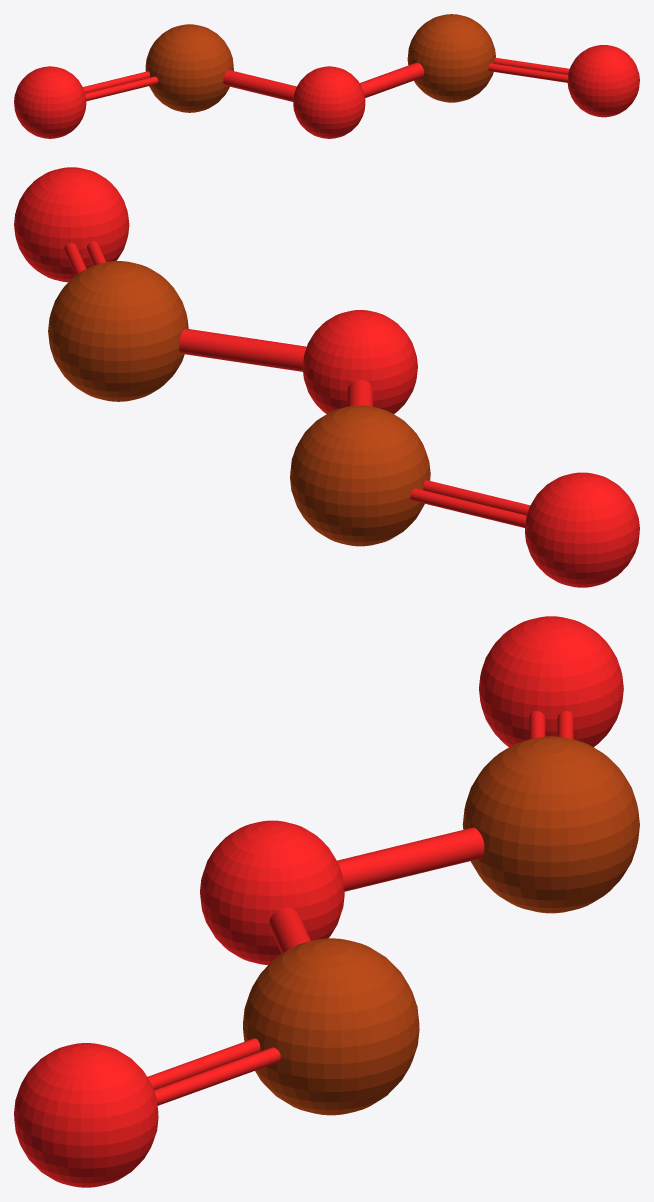
Rendered from iron_oxide.fbx.
The picture shows the model from 3 angles, top to bottom: view 1: azimuth 30°, elevation 25°; view 2: azimuth 150°, elevation 25°; view 3: azimuth 270°, elevation 25°; orthographic projection. The views are drawn at different scales.
Parts seen in each view (by area): view 1: iron_oxide; view 2: iron_oxide; view 3: iron_oxide.
Boxes of the visible parts, left/top/right/bottom form: iron_oxide: left=14, top=14, right=639, bottom=138; iron_oxide: left=14, top=167, right=639, bottom=587; iron_oxide: left=14, top=616, right=639, bottom=1187.
Size of the model in its own units: 287 by 44 by 155.
